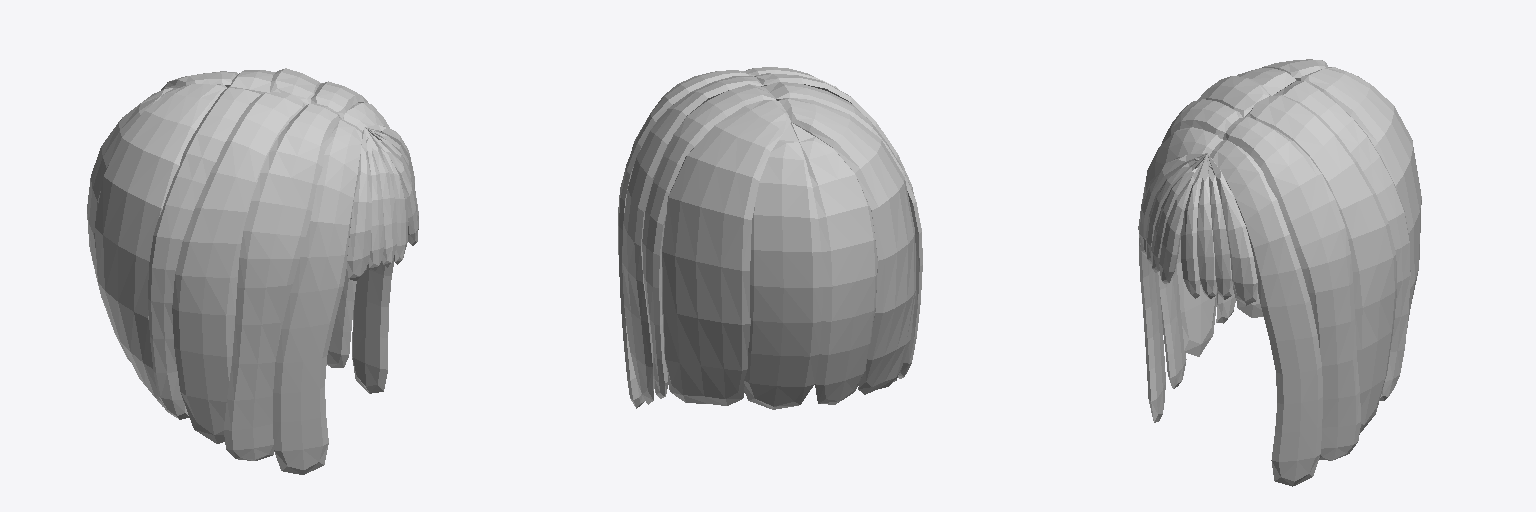
File: Cabello.obj
3 views of the same model, side by side, from view 1: azimuth 30°, elevation 25°; view 2: azimuth 150°, elevation 25°; view 3: azimuth 270°, elevation 25° (orthographic).
Parts seen in each view (by area): view 1: Hair_Plane; view 2: Hair_Plane; view 3: Hair_Plane.
Part boxes in pixels (x1,y1,x2,y2): Hair_Plane: (87,68,418,474); Hair_Plane: (618,67,922,409); Hair_Plane: (1138,59,1421,486).
Bounding box in the file's own units: 4.36 × 5.08 × 3.79.